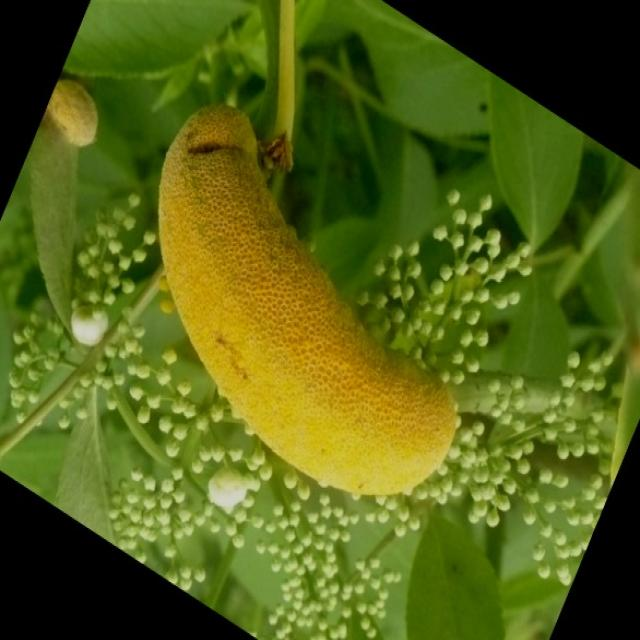Elderberry_rust: (155, 101, 459, 498)
